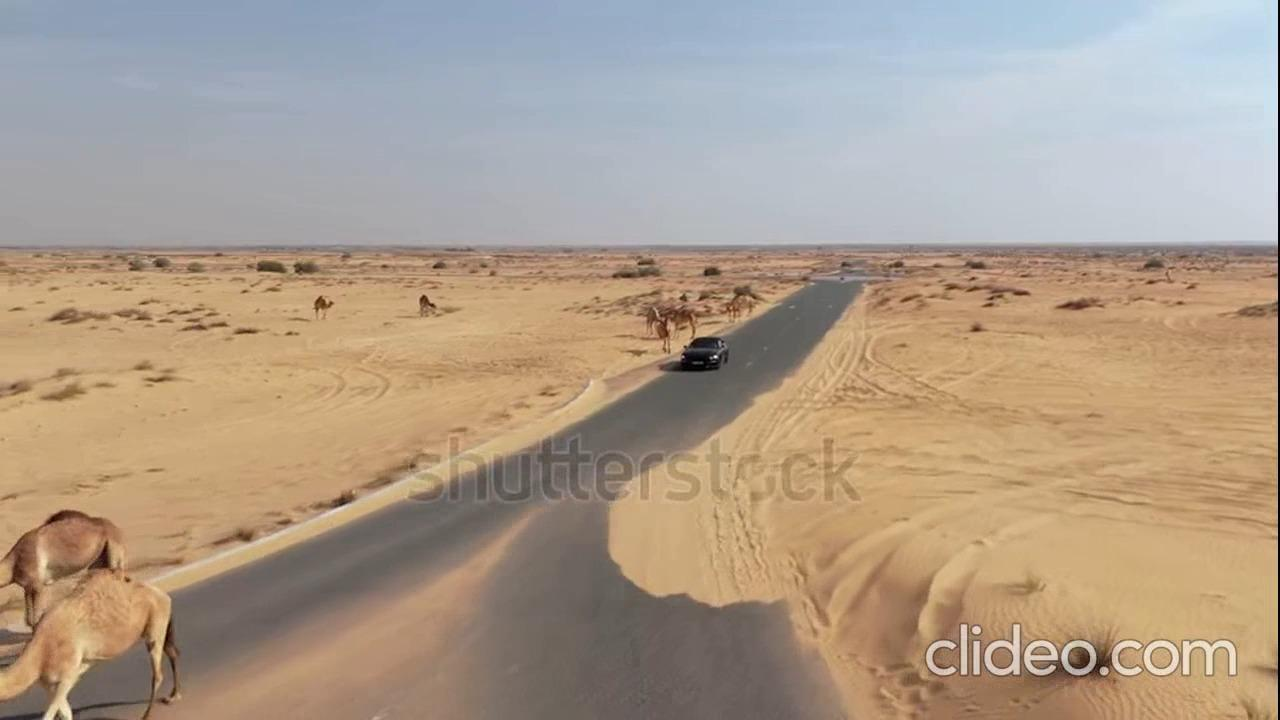camel: (11, 564, 181, 717), (13, 507, 132, 617)
